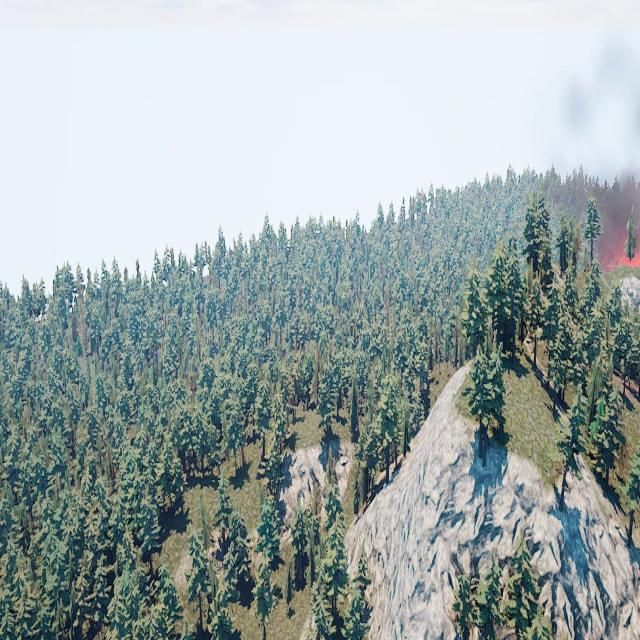smoke: (570, 49, 636, 266)
